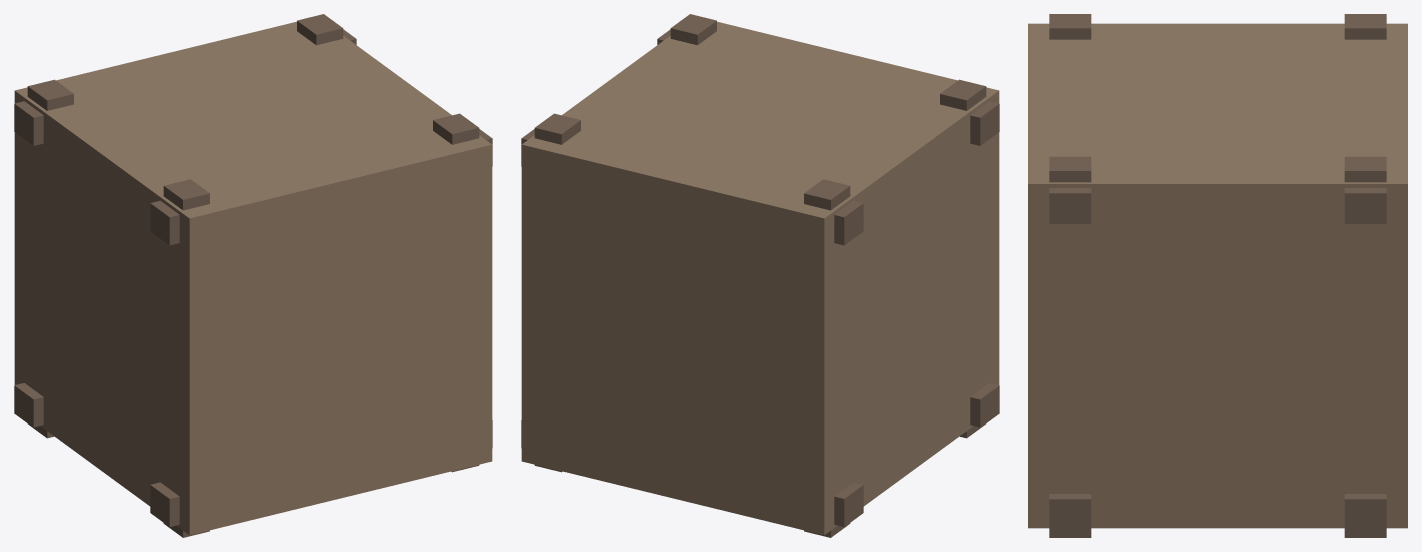
File: SM_WoodenCrate.glb
3 views of the same model, side by side, from view 1: azimuth 30°, elevation 25°; view 2: azimuth 150°, elevation 25°; view 3: azimuth 270°, elevation 25° (orthographic). The views are drawn at different scales.
Parts seen in each view (by area): view 1: SM_WoodenCrate_part00, SM_WoodenCrate_part02, SM_WoodenCrate_part08, SM_WoodenCrate_part01, SM_WoodenCrate_part07, SM_WoodenCrate_part04, SM_WoodenCrate_part06, SM_WoodenCrate_part05, SM_WoodenCrate_part03; view 2: SM_WoodenCrate_part00, SM_WoodenCrate_part01, SM_WoodenCrate_part07, SM_WoodenCrate_part02, SM_WoodenCrate_part08, SM_WoodenCrate_part03, SM_WoodenCrate_part05, SM_WoodenCrate_part06, SM_WoodenCrate_part04; view 3: SM_WoodenCrate_part00, SM_WoodenCrate_part05, SM_WoodenCrate_part06, SM_WoodenCrate_part07, SM_WoodenCrate_part08, SM_WoodenCrate_part03, SM_WoodenCrate_part04, SM_WoodenCrate_part01, SM_WoodenCrate_part02.
Part boxes in pixels (x1,y1,x2,y2): SM_WoodenCrate_part00: [14, 21, 492, 535]; SM_WoodenCrate_part02: [163, 179, 209, 537]; SM_WoodenCrate_part08: [150, 129, 492, 245]; SM_WoodenCrate_part01: [27, 79, 73, 438]; SM_WoodenCrate_part07: [14, 29, 356, 145]; SM_WoodenCrate_part04: [433, 113, 479, 472]; SM_WoodenCrate_part06: [150, 420, 492, 526]; SM_WoodenCrate_part05: [14, 383, 43, 427]; SM_WoodenCrate_part03: [297, 14, 343, 45]; SM_WoodenCrate_part00: [521, 21, 999, 535]; SM_WoodenCrate_part01: [804, 179, 850, 537]; SM_WoodenCrate_part07: [521, 129, 863, 245]; SM_WoodenCrate_part02: [940, 79, 986, 438]; SM_WoodenCrate_part08: [657, 29, 999, 145]; SM_WoodenCrate_part03: [534, 113, 580, 472]; SM_WoodenCrate_part05: [521, 420, 863, 526]; SM_WoodenCrate_part06: [970, 383, 999, 427]; SM_WoodenCrate_part04: [670, 14, 716, 45]; SM_WoodenCrate_part00: [1028, 23, 1407, 528]; SM_WoodenCrate_part05: [1344, 494, 1386, 529]; SM_WoodenCrate_part06: [1049, 494, 1091, 529]; SM_WoodenCrate_part07: [1344, 188, 1386, 223]; SM_WoodenCrate_part08: [1049, 188, 1091, 223]; SM_WoodenCrate_part03: [1344, 156, 1386, 537]; SM_WoodenCrate_part04: [1049, 156, 1091, 537]; SM_WoodenCrate_part01: [1344, 14, 1386, 39]; SM_WoodenCrate_part02: [1049, 14, 1091, 39].
Bounding box in the file's own units: 0.96 × 0.96 × 0.9.
